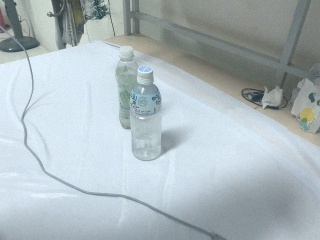bottle: (128, 65, 163, 160), (114, 45, 139, 131)
